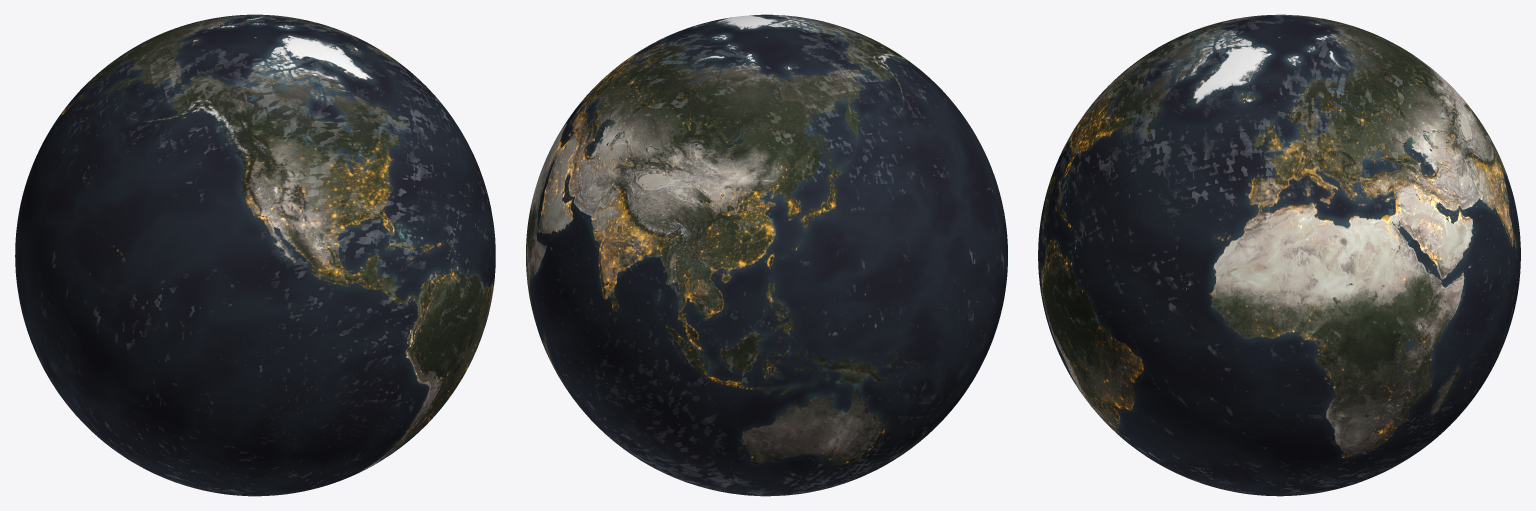
The model's file is earth_-_16k_high_resolution.glb.
3 views of the same model, side by side, from view 1: azimuth 30°, elevation 25°; view 2: azimuth 150°, elevation 25°; view 3: azimuth 270°, elevation 25° (orthographic).
Visible parts, largest first — view 1: object 1, Clouds_Geo2_Clouds_0, Clouds_Geo2_Clouds_3_0; view 2: object 1, Clouds_Geo2_Clouds_3_0, Clouds_Geo2_Clouds_4_0; view 3: object 1, Clouds_Geo2_Clouds_3_0, Clouds_Geo2_Clouds_0.
Boxes of the visible parts, x1,y1,x2,y2 form: object 1: (14, 14, 496, 496); Clouds_Geo2_Clouds_0: (39, 94, 487, 432); Clouds_Geo2_Clouds_3_0: (63, 17, 447, 168); object 1: (525, 14, 1008, 496); Clouds_Geo2_Clouds_3_0: (554, 16, 936, 335); Clouds_Geo2_Clouds_4_0: (540, 243, 878, 494); object 1: (1037, 14, 1521, 496); Clouds_Geo2_Clouds_3_0: (1175, 15, 1476, 313); Clouds_Geo2_Clouds_0: (1041, 37, 1192, 323).
Size of the model in its own units: 1.04 by 1.04 by 1.04.
Materials: 9 (8 with a texture image).
